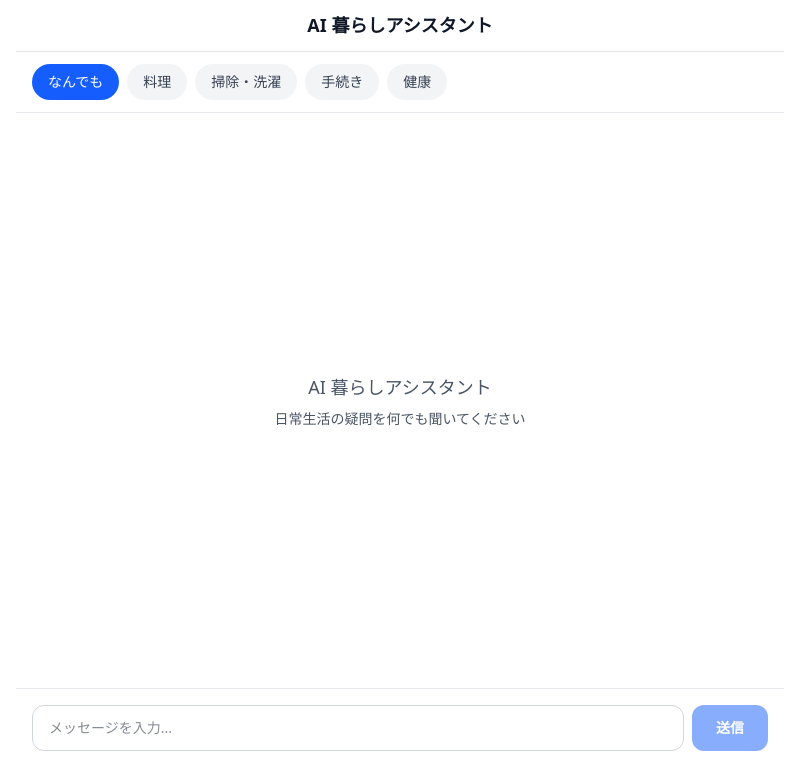
Test: チャット画面のストリーミング処理 › 行の途中で分割されたチャンクを結合して回答を組み立てること
Type "テスト質問" into the field labelled "メッセージを入力" at (358, 728), box [32,705,684,751]
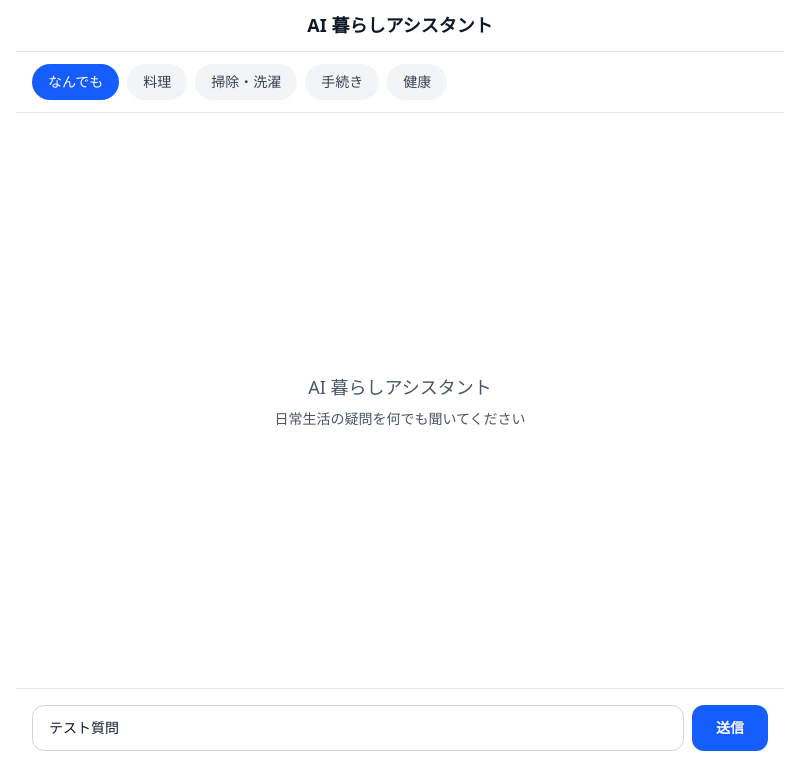
Click the button "送信" at (730, 728), box [692,705,768,751]
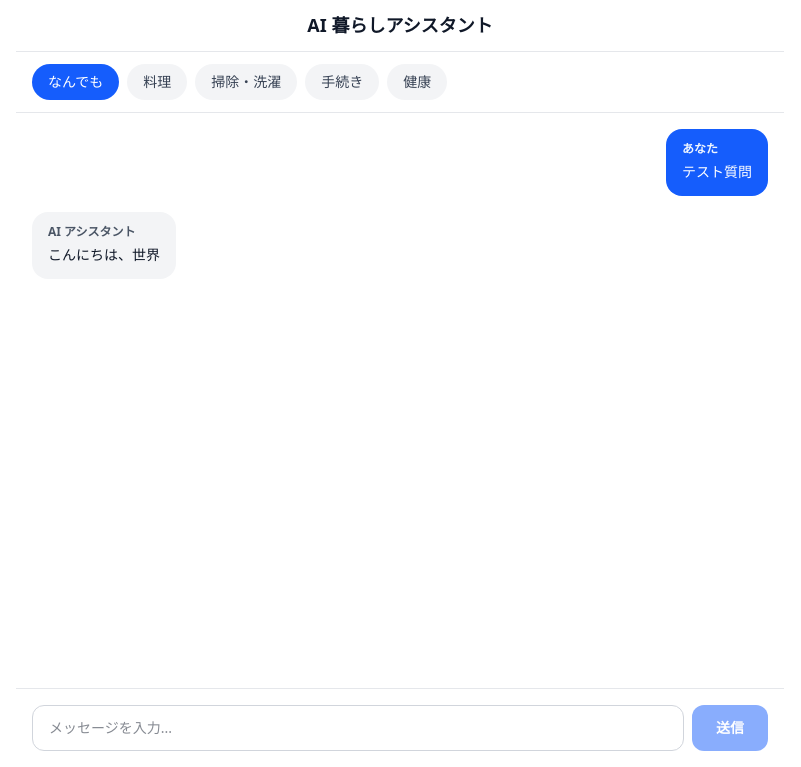
Result: the text "こんにちは、世界" is shown at [48,244,160,267]
